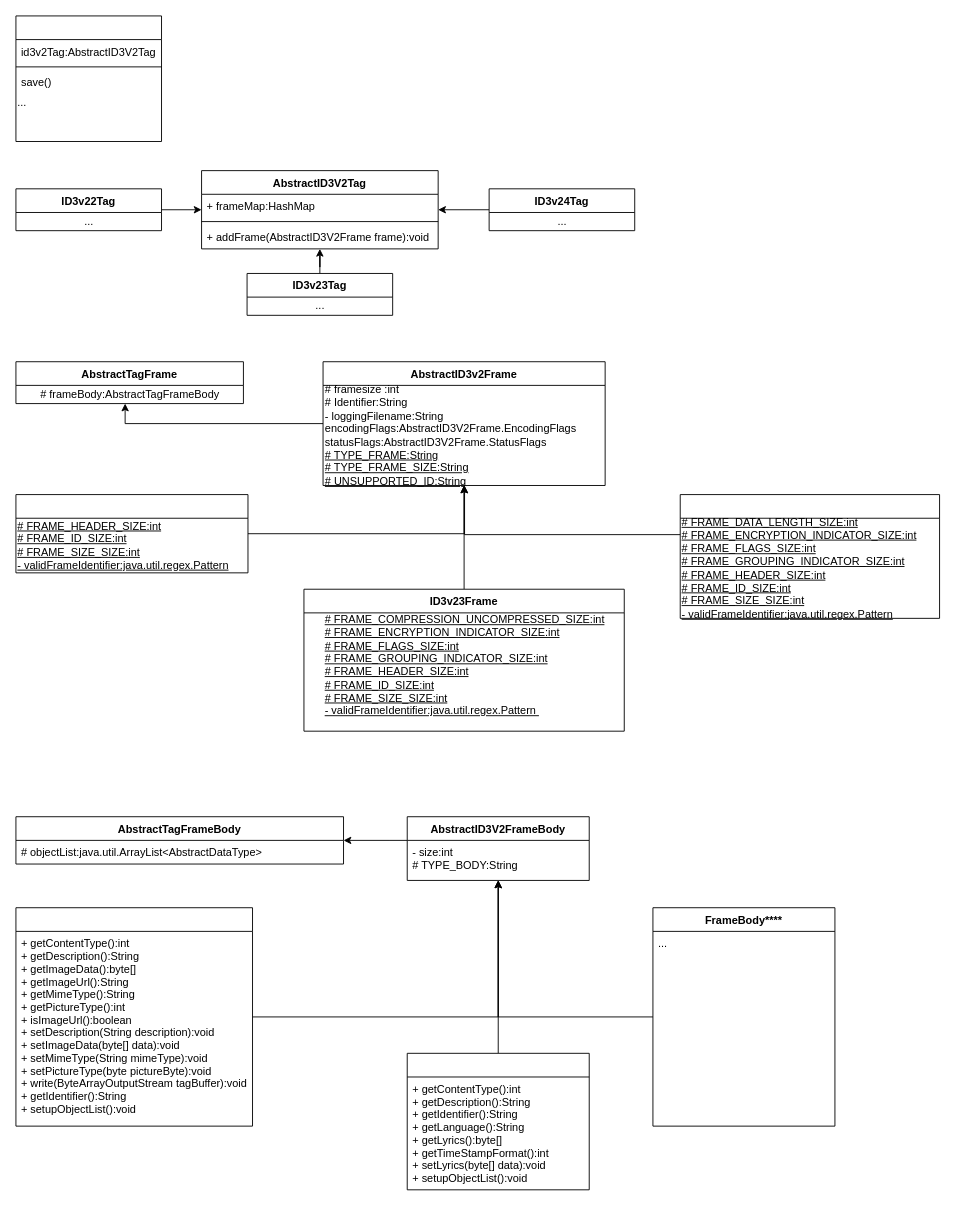
The diagram is 956 pixels wide and 1208 high, and some of its shapes have lost their labels. Here are the shapes that lost their labels. From the top down, the box of each, then its label:
(15, 15, 162, 142): MP3File
(15, 494, 248, 573): ID3v22Frame
(679, 494, 940, 618): ID3v24Frame
(15, 907, 253, 1126): FrameBodyAPIC
(406, 1052, 589, 1190): FrameBodySYLT
